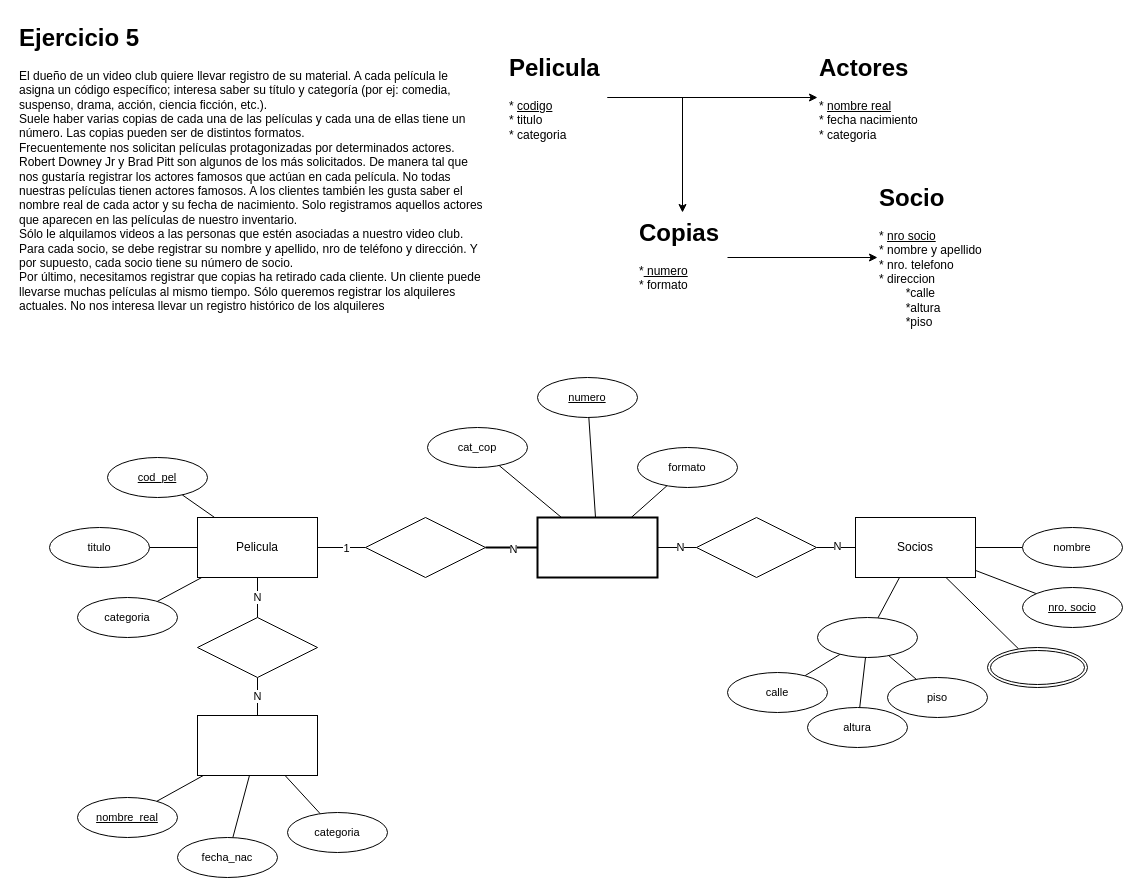
This 1140x895 diagram has some shape labels left out. The centre of each missing label's shape, as x and y in pixels:
"Actores" belongs at (257,745).
"actuan" belongs at (257,647).
"Copias" belongs at (597,547).
"direccion" belongs at (867,637).
"nro_telefono" belongs at (1037,667).
"solicitan" belongs at (756,547).
"tiene" belongs at (425,547).
